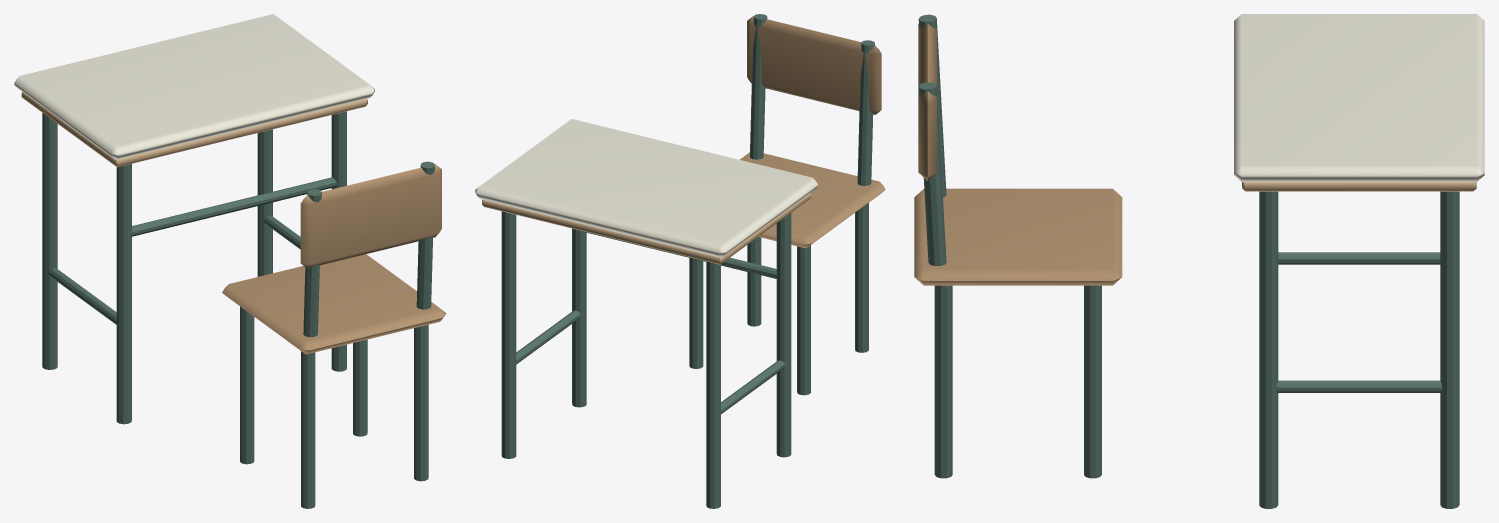
File: desk-chair.glb
3 views of the same model, side by side, from view 1: azimuth 30°, elevation 25°; view 2: azimuth 150°, elevation 25°; view 3: azimuth 270°, elevation 25° (orthographic). The views are drawn at different scales.
Visible parts, largest first — view 1: desk.top, chair.seat, chair.back, desk.leg, desk.leg.001, desk.edge, chair.leg, chair.leg.002, desk.frontbrace, chair.leg.001, desk.leg.003, desk.leg.002 (+4 smaller); view 2: desk.top, chair.back, chair.seat, desk.leg.003, desk.leg, desk.leg.001, desk.leg.002, desk.edge, chair.leg.001, chair.leg, chair.backpost, chair.backpost.001 (+5 smaller); view 3: desk.top, chair.seat, desk.leg.003, desk.leg.002, chair.leg.002, chair.leg.003, chair.back, desk.edge, desk.sidebrace.001, desk.sidebrace, chair.backpost.001, chair.backpost.
Boxes of the visible parts, x1,y1,x2,y2 form: desk.top: [14, 14, 374, 159]; chair.seat: [222, 254, 446, 354]; chair.back: [300, 164, 441, 268]; desk.leg: [116, 164, 131, 424]; desk.leg.001: [42, 113, 57, 369]; desk.edge: [21, 92, 367, 167]; chair.leg: [301, 351, 315, 508]; chair.leg.002: [414, 324, 428, 481]; desk.frontbrace: [131, 177, 336, 236]; chair.leg.001: [240, 306, 254, 464]; desk.leg.003: [257, 129, 272, 276]; desk.leg.002: [331, 111, 346, 371]; desk.top: [475, 119, 817, 257]; chair.back: [747, 16, 881, 114]; chair.seat: [740, 152, 885, 248]; desk.leg.003: [501, 211, 516, 458]; desk.leg: [776, 213, 791, 457]; desk.leg.001: [706, 261, 720, 508]; desk.leg.002: [572, 228, 586, 407]; desk.edge: [482, 193, 810, 264]; chair.leg.001: [797, 245, 810, 395]; chair.leg: [855, 203, 868, 352]; chair.backpost: [857, 40, 874, 185]; chair.backpost.001: [750, 14, 767, 159]; desk.top: [1234, 14, 1484, 182]; chair.seat: [914, 188, 1122, 285]; desk.leg.003: [1440, 191, 1459, 508]; desk.leg.002: [1259, 191, 1278, 508]; chair.leg.002: [934, 285, 952, 478]; chair.leg.003: [1084, 285, 1101, 478]; chair.back: [918, 23, 936, 180]; desk.edge: [1242, 182, 1476, 191]; desk.sidebrace.001: [1276, 380, 1442, 392]; desk.sidebrace: [1278, 252, 1440, 264]; chair.backpost.001: [918, 82, 946, 265]; chair.backpost: [918, 14, 946, 197].
Bounding box in the file's own units: 0.7 × 0.8058 × 1.07.
